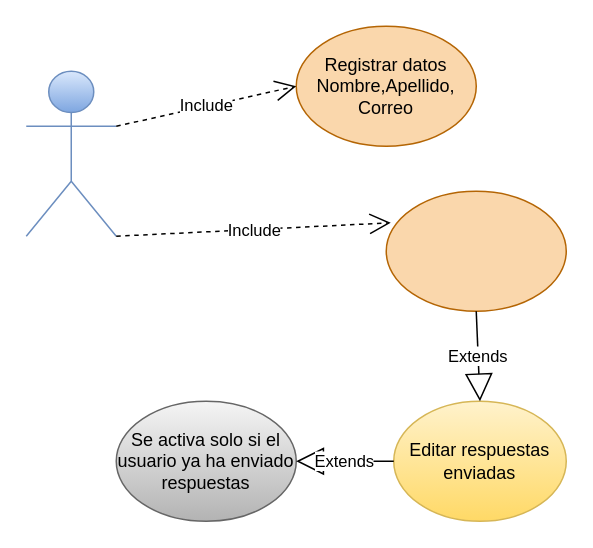
The diagram is 593 pixels wide and 548 high, and some of its shapes have lost their labels. Here are the shapes that lost their labels. From the top down, the box of each, then its label:
(25, 70, 116, 236): Usuario
(385, 190, 566, 311): Responder encuesta Rueda Vida
